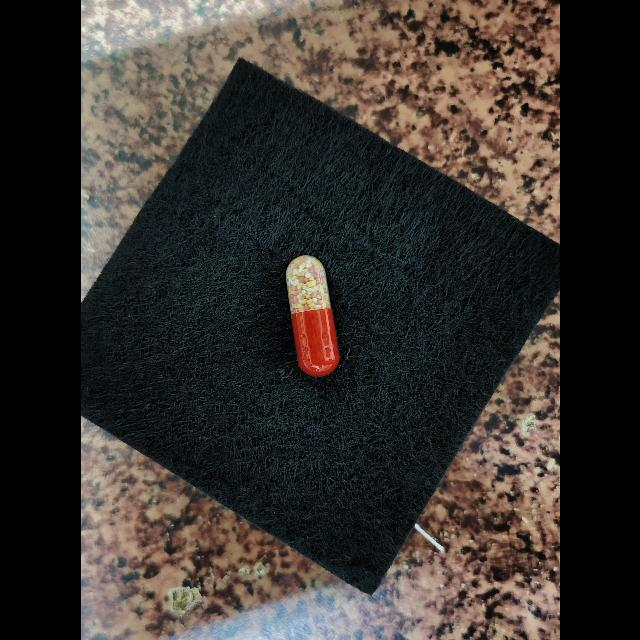Intact Capsule: (285, 255, 339, 377)
